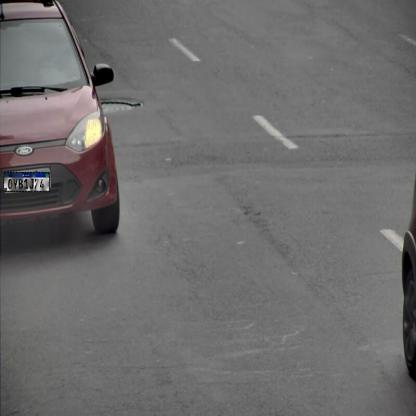PlacaM: (3, 172, 50, 192)
